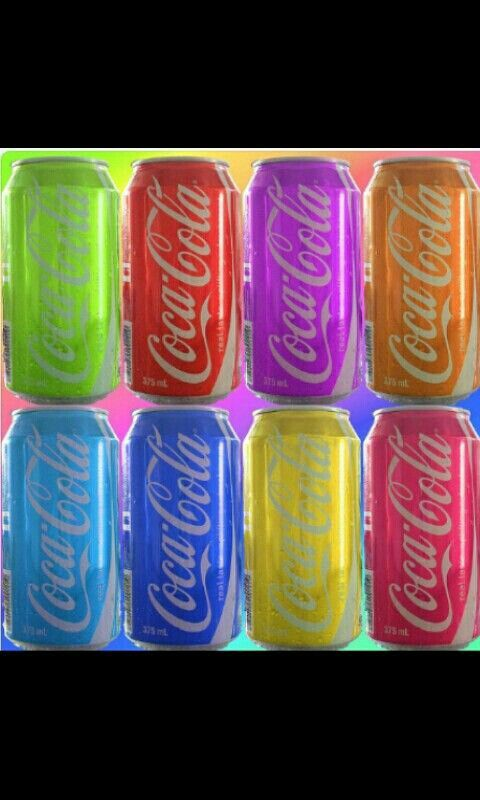can: (241, 155, 371, 403), (241, 403, 367, 653), (3, 153, 123, 407), (123, 151, 241, 403), (121, 403, 239, 653), (5, 403, 123, 651), (367, 153, 480, 399), (367, 403, 480, 645)
